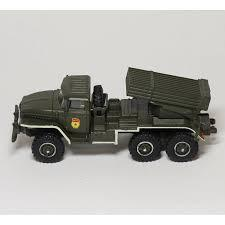MIL_SAM_TEL: (15, 64, 214, 164)
